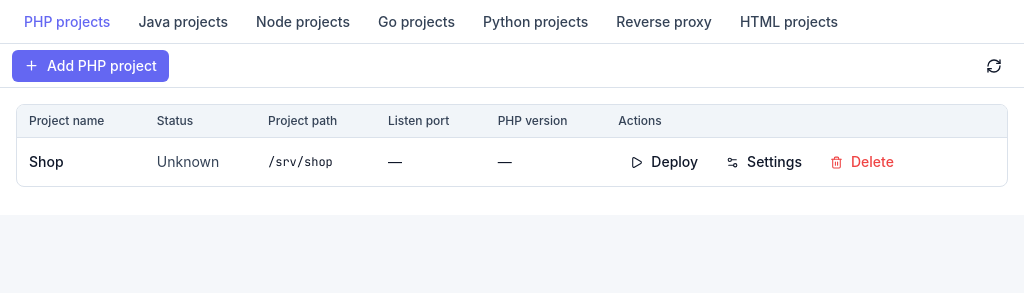
Test case: Deployment project tabs (en-US) › shows the matching empty state for every project type
Click the tab "Java projects" at (183, 22), box x1=126 y1=6 x2=240 y2=38
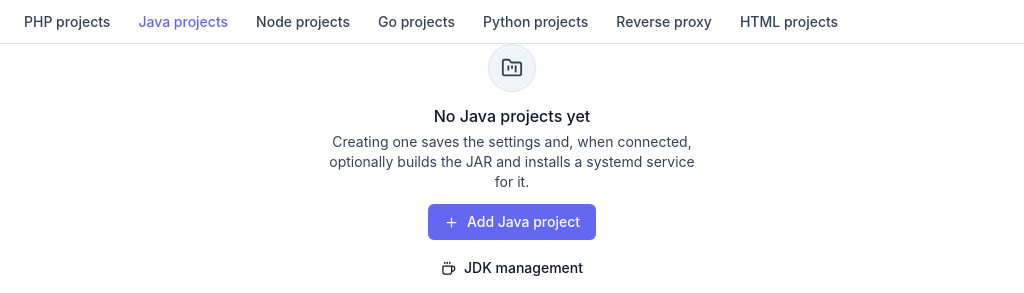
Expected: the text "No Java projects yet" is shown, x1=434 y1=106 x2=590 y2=126
Click the tab "Node projects" at (303, 22), box x1=244 y1=6 x2=362 y2=38
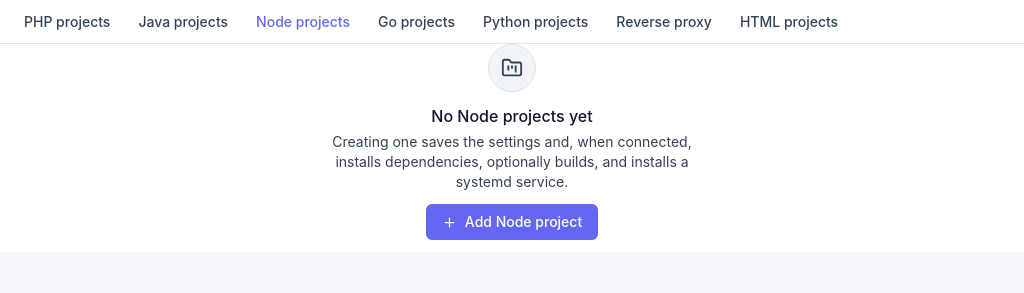
Expected: the text "No Node projects yet" is shown, x1=431 y1=106 x2=593 y2=126
Click the tab "Go projects" at (416, 22), box x1=366 y1=6 x2=467 y2=38
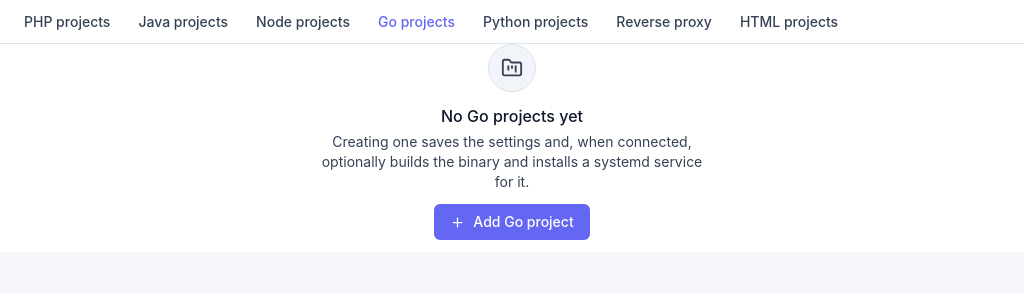
Expected: the text "No Go projects yet" is shown, x1=441 y1=106 x2=583 y2=126
Click the tab "Python projects" at (536, 22), box x1=471 y1=6 x2=600 y2=38
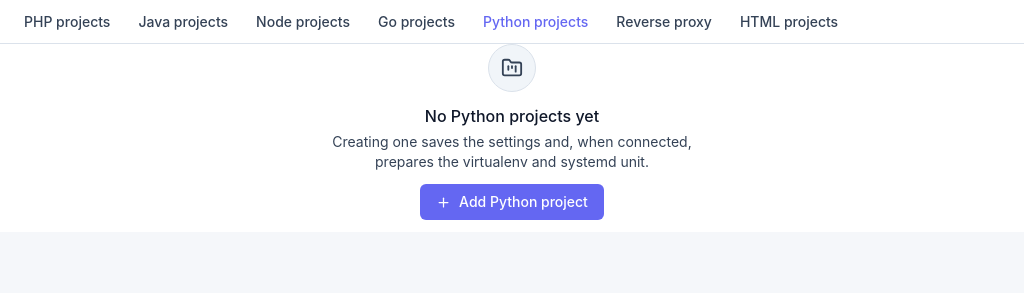
Expected: the text "No Python projects yet" is shown, x1=425 y1=106 x2=599 y2=126
Click the tab "HTML projects" at (789, 22), box x1=728 y1=6 x2=850 y2=38
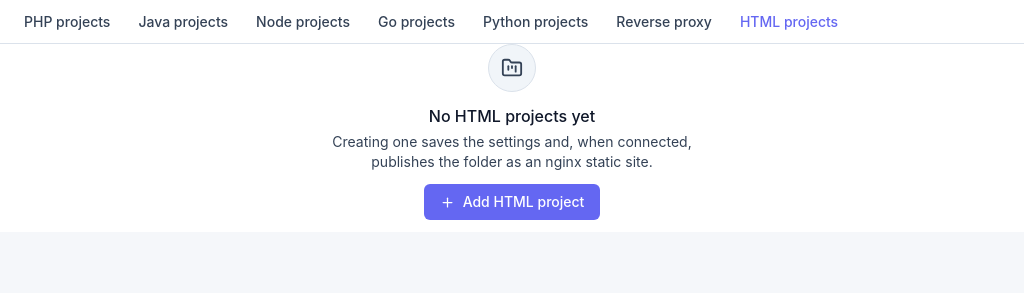
Expected: the text "No HTML projects yet" is shown, x1=429 y1=106 x2=595 y2=126
